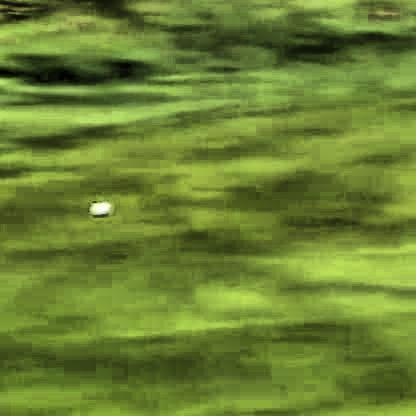golfball: (88, 200, 110, 218)
